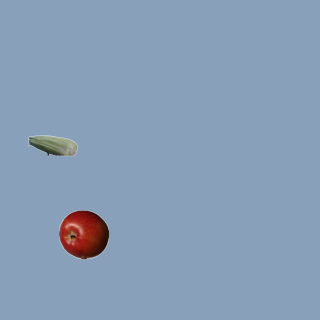Apple Braeburn: (58, 209, 108, 259)
Corn Husk: (27, 120, 77, 170)
